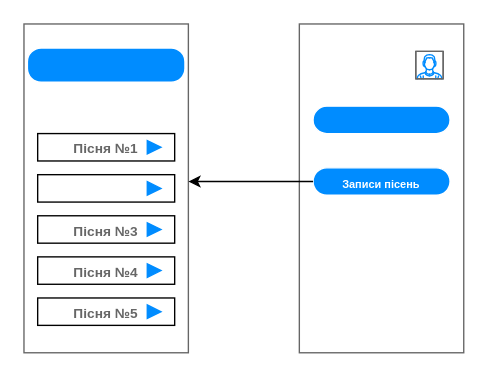
This 488x377 diagram has some shape labels left out. The centre of each missing label's shape, as x and y in pixels:
Ваши записи пісень: point (105, 64)
Вибрати пісню: point (381, 119)
Пісня №2: point (105, 187)
